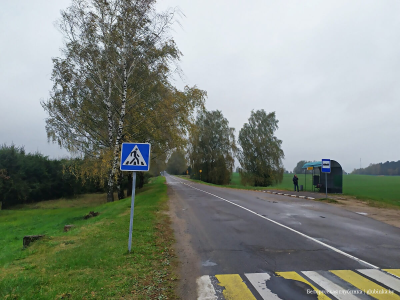crosswalk: (122, 143, 149, 171)
